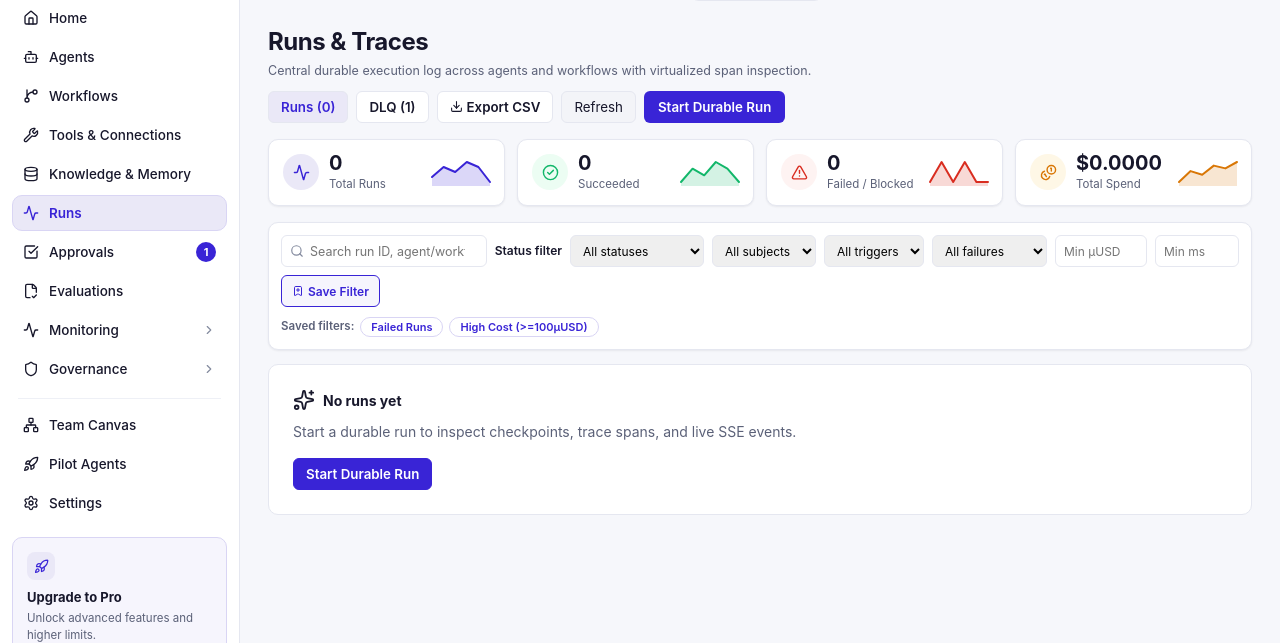
Test: @elshad/console shell, env safety, API keys, and accessibility [E0.1-7, NFR-15] › runs a durable run, inspects trace step in drawer, and re-drives a DLQ item [E0.2-7]
The width and height of the screenshot is (1280, 643).
Check: the heading "Runs & Traces" is shown, box [268,27,428,56]
Note: Start Durable Run
What coordinates should you click on to do the following:
click the button "Start Durable Run" below "Runs & Traces"
I would click on:
 (715, 107)
Its box is [644,91,785,123].
(page scrolled)
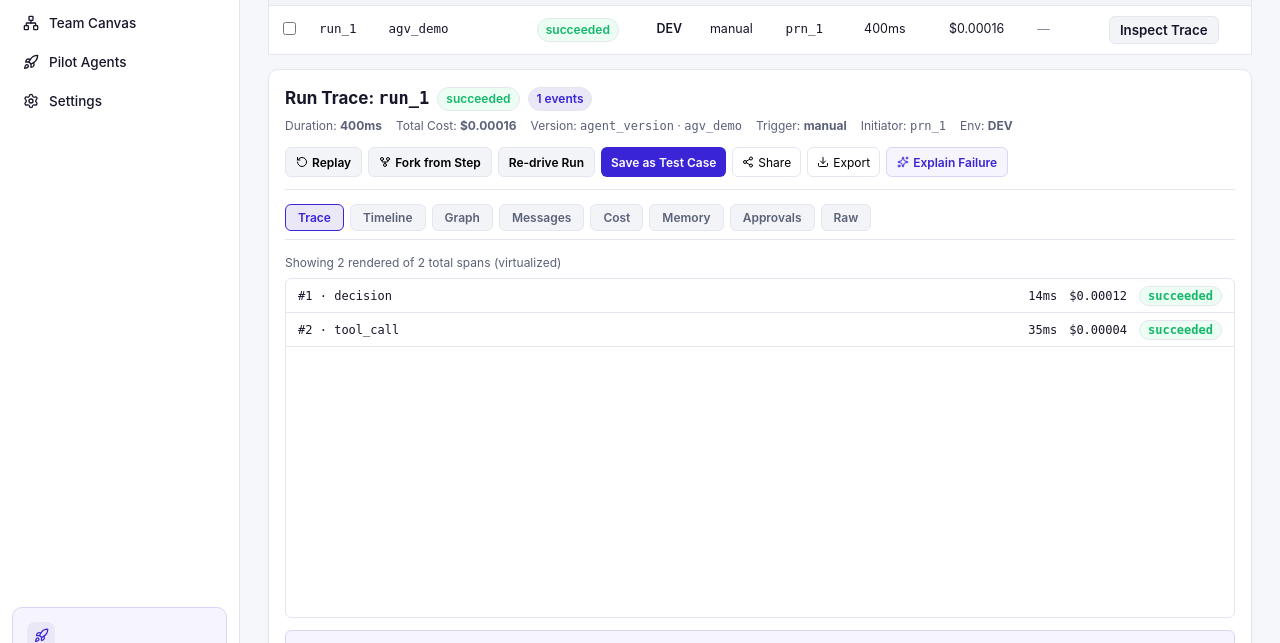
Check: the heading "Run Trace: run_1" is shown, box [285,86,429,111]
Note: Click first trace step to inspect in Right Inspector Drawer
What coordinates should you click on to do the following:
click the list item "#1 · decision 14ms $0.00012 succeeded"
I would click on:
 (363, 296)
Its box is [286,279,1234,313].
(page scrolled)
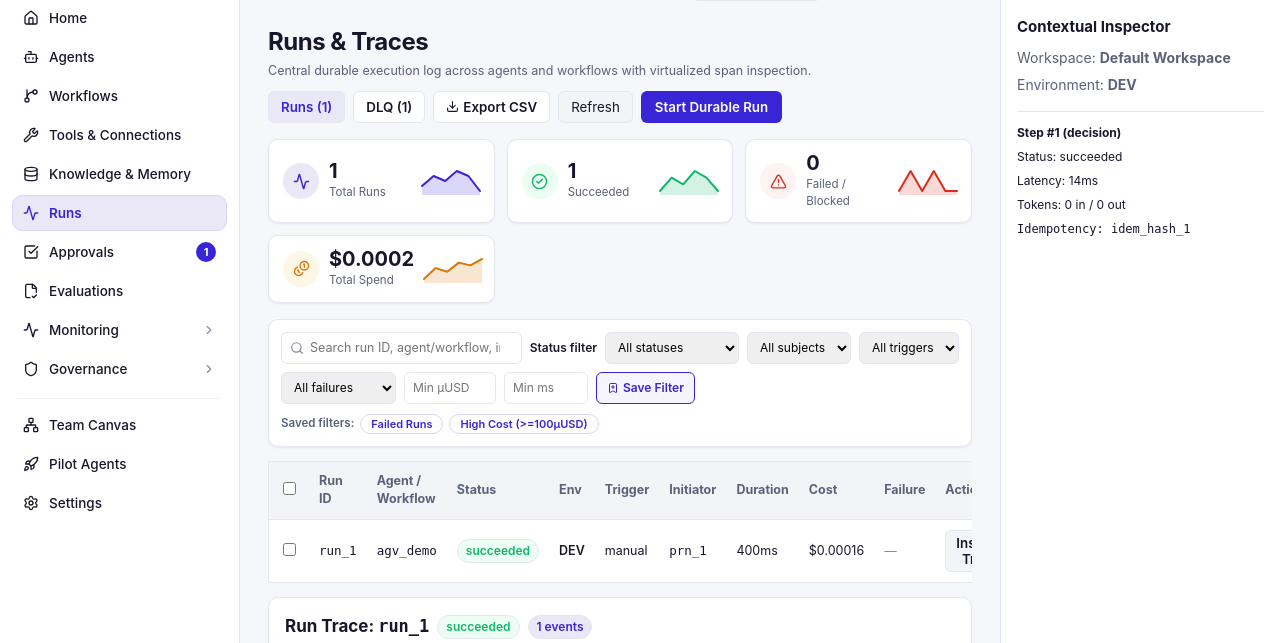
Check: the text "Idempotency: idem_hash_1" is shown, box [1017,222,1190,236]
Note: Switch to DLQ tab and re-drive failed run
What coordinates should you click on to do the following:
click the button "DLQ (1)"
I would click on:
 (389, 107)
Its box is [353,91,425,123].
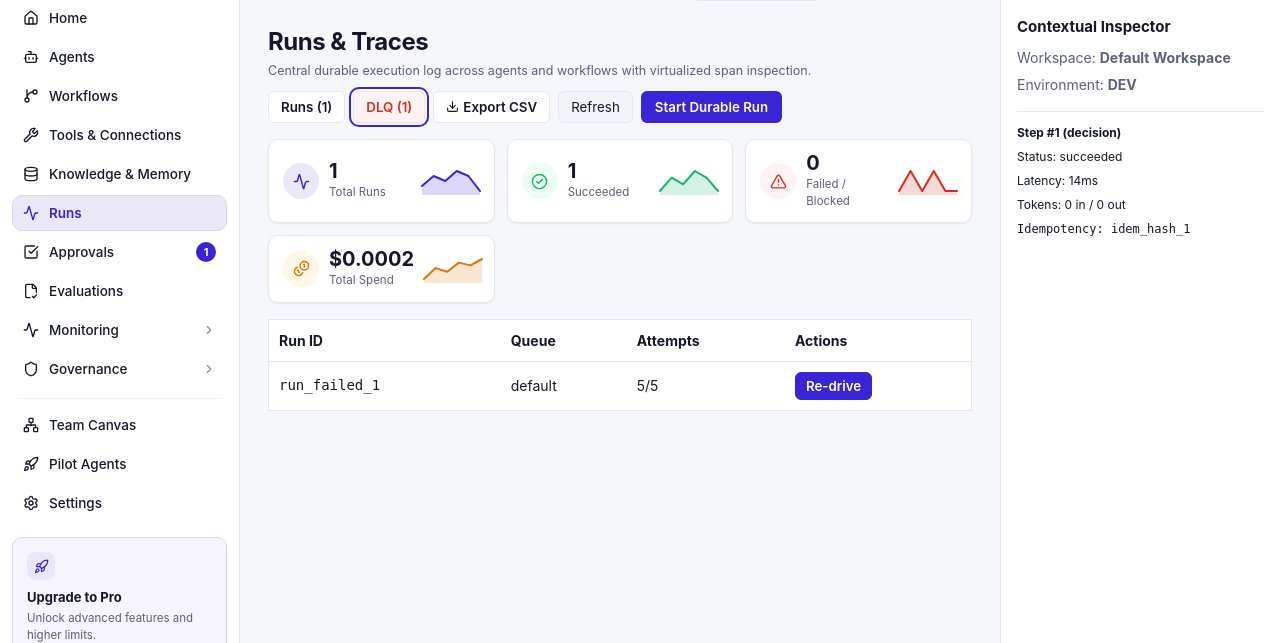
Check: the text "run_failed_1" is shown, box [268,361,501,410]
What coordinates should you click on to do the following:
click the button "Re-drive"
I would click on:
 (834, 386)
Its box is [795,372,872,400].
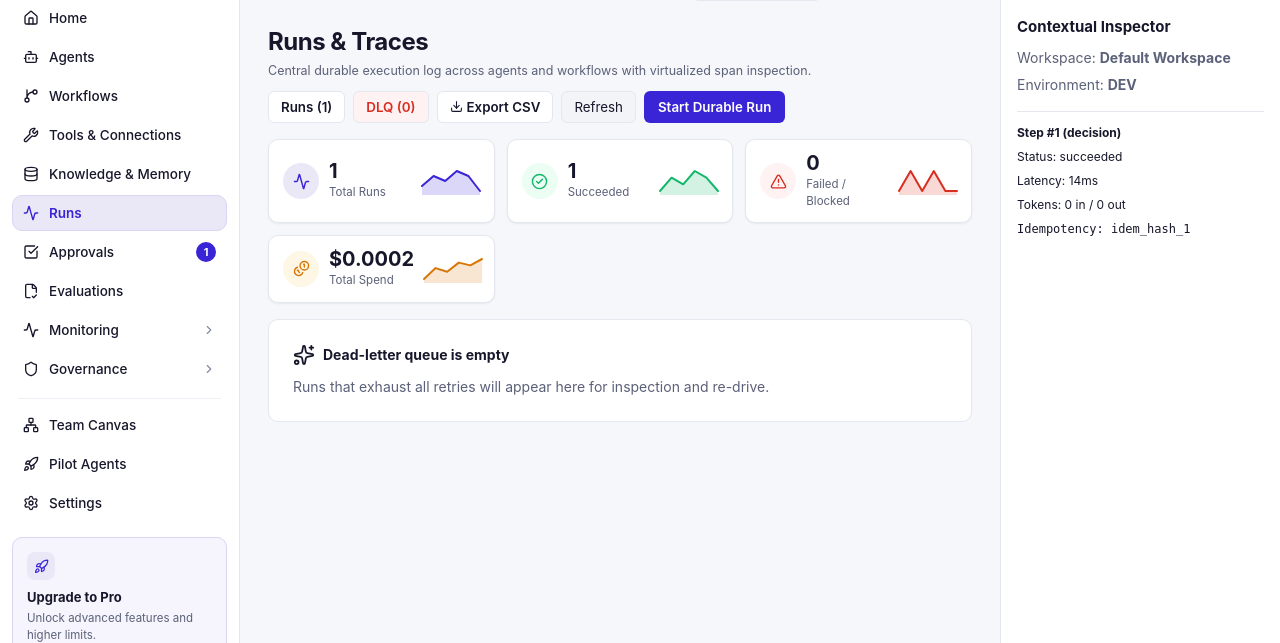
Check: the text "Dead-letter queue is empty" is shown, box [323,344,510,365]
